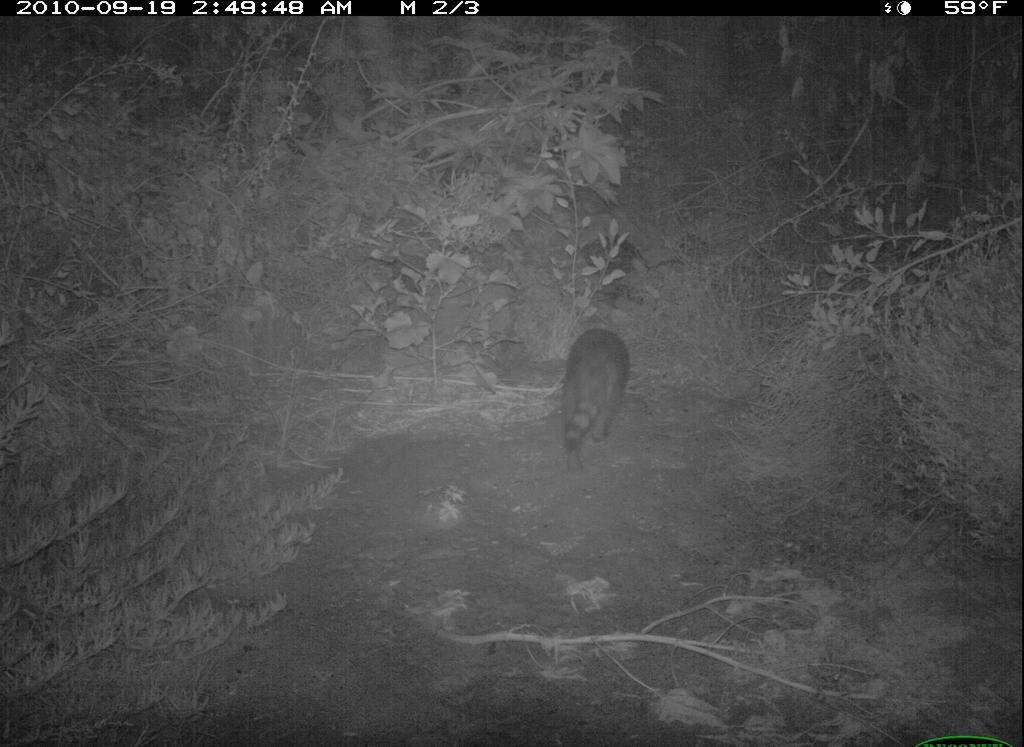raccoon: (546, 329, 635, 456)
